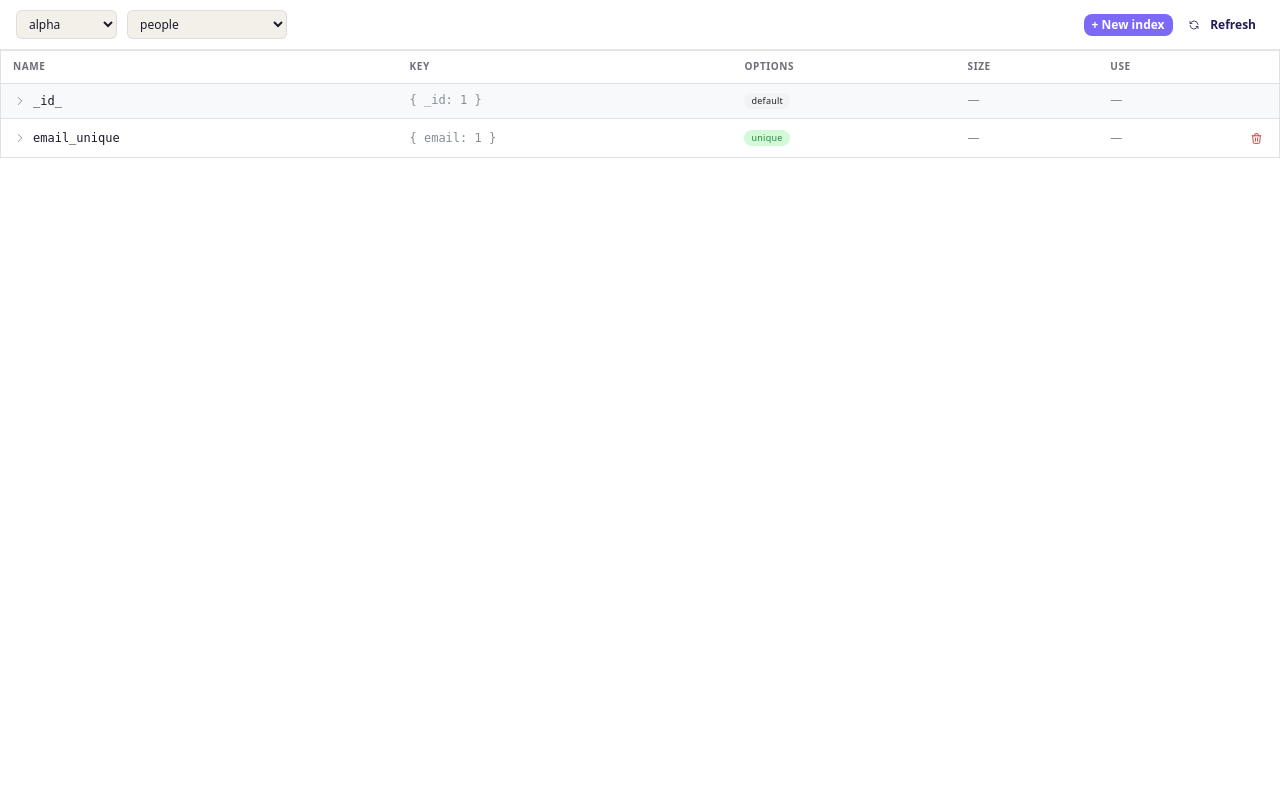
Test: IndexesTab — drop confirm › Drop is disabled until the typed name matches; success refetches
Expected: the text "email_unique" is shown, [33,129,120,147]
Click the button named "Drop index email_unique": (1256, 138) [1245,127,1267,149]
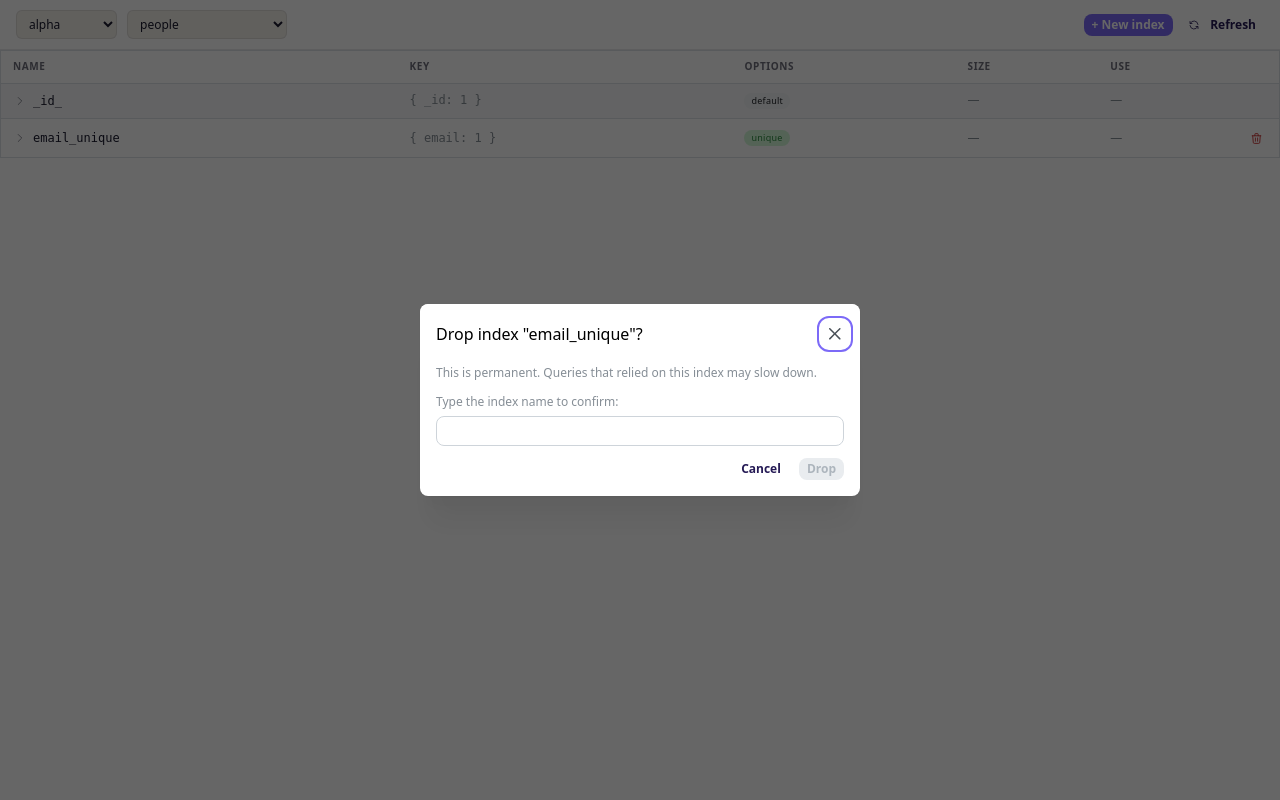
Result: the button "Drop" is disabled at [799,458,844,480]
In the field named "Confirm index name": (640, 431) [436,416,844,446], type "wrong"
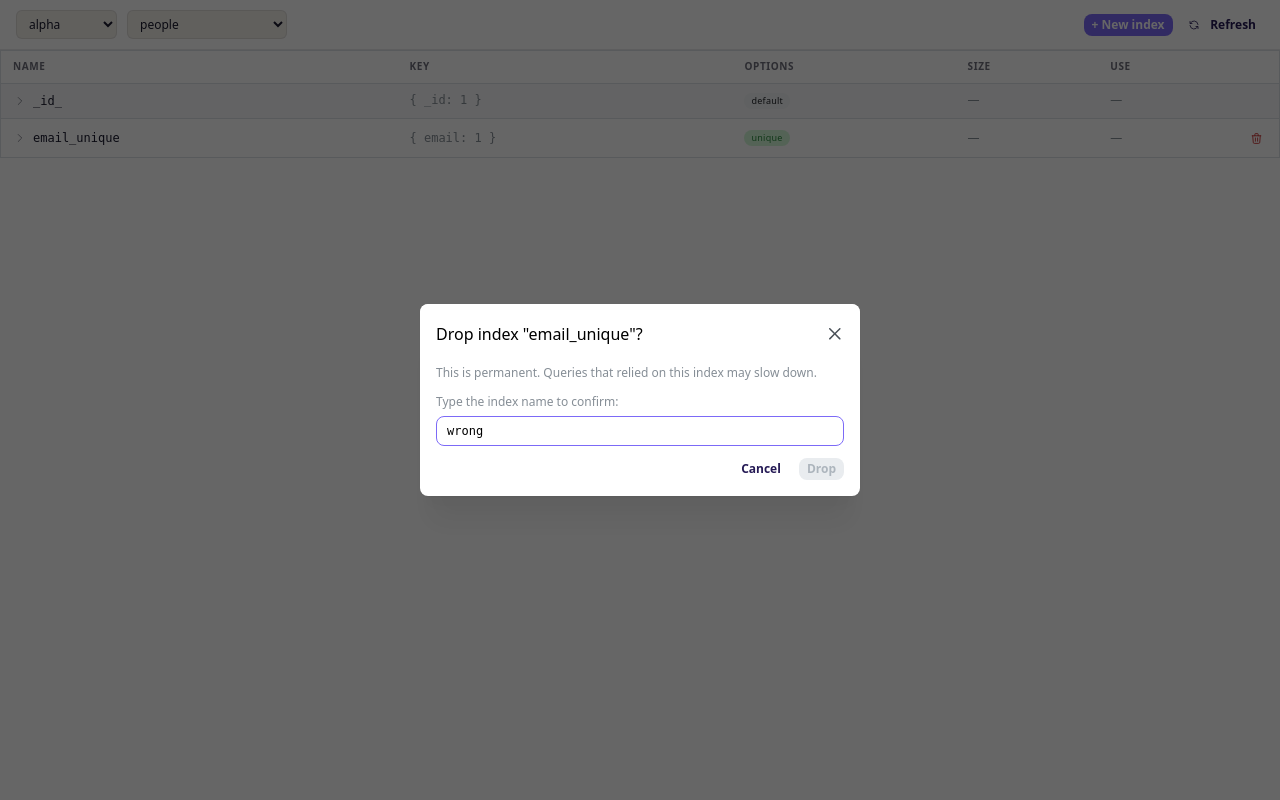
Result: the button "Drop" is disabled at [799,458,844,480]
Replace the text in the field named "Confirm index name" with "email_unique": (640, 431) [436,416,844,446]
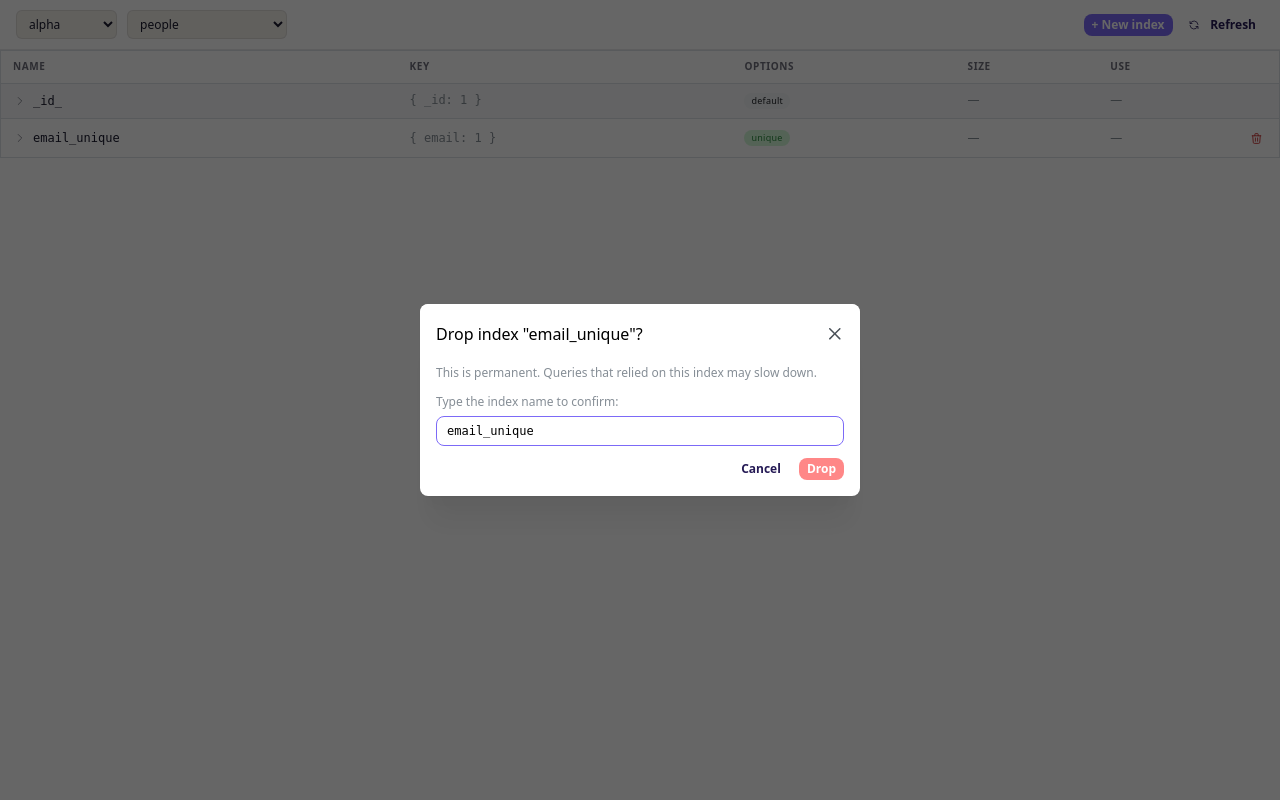
Result: the button "Drop" is enabled
Click the button "Drop": (821, 469) [799,458,844,480]
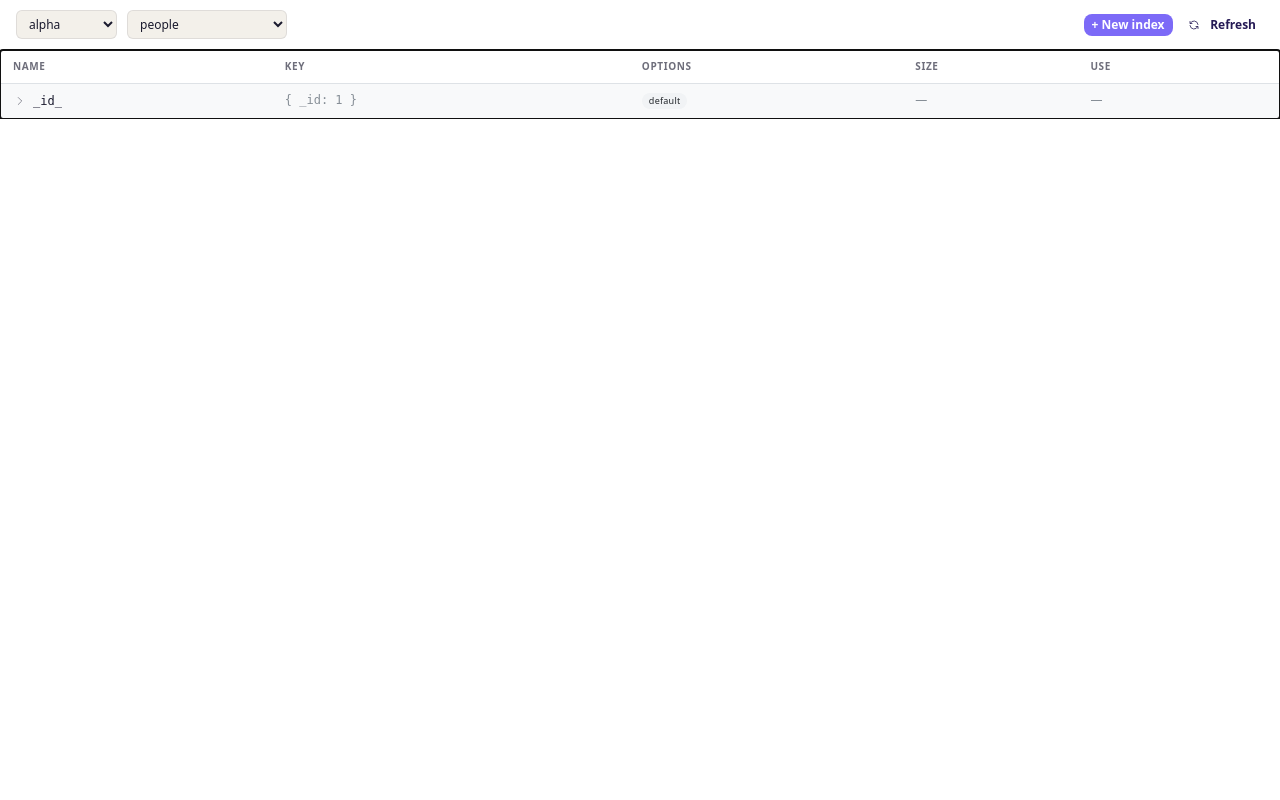
Result: the heading "email_unique" is gone
